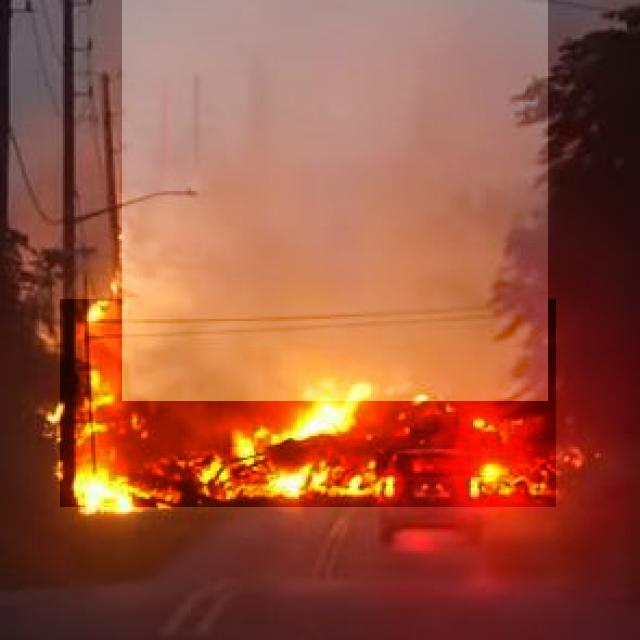Fire: (60, 299, 556, 507)
Smoke: (122, 0, 548, 401)
